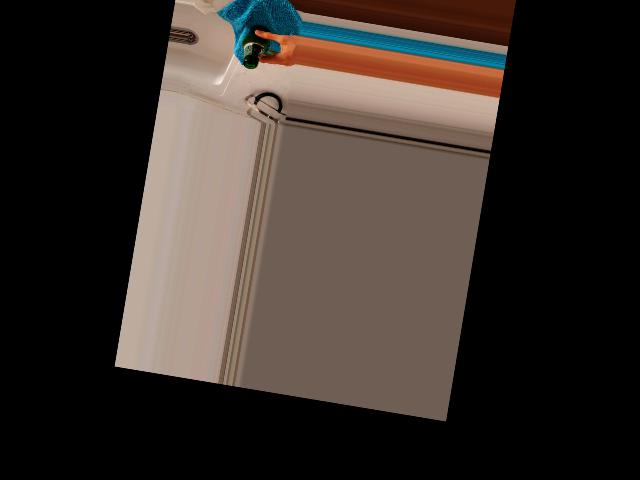beer: (239, 22, 271, 70)
